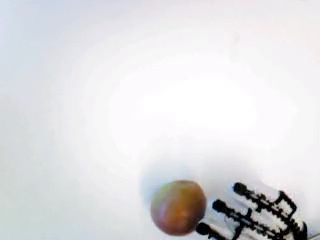apple: (150, 181, 207, 234)
hand: (195, 182, 308, 238)
